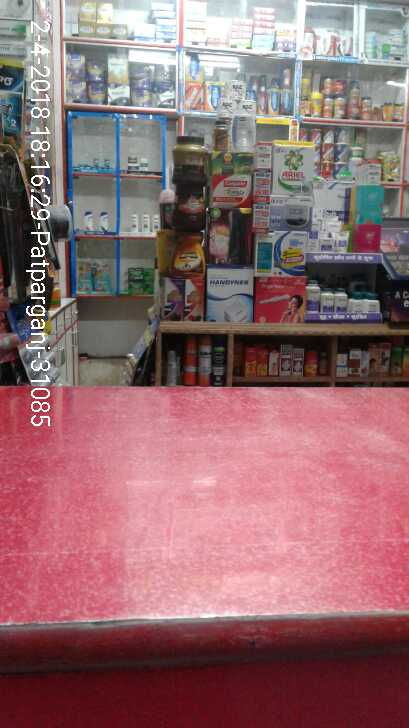vicks: (93, 156, 100, 166), (104, 157, 111, 166)
